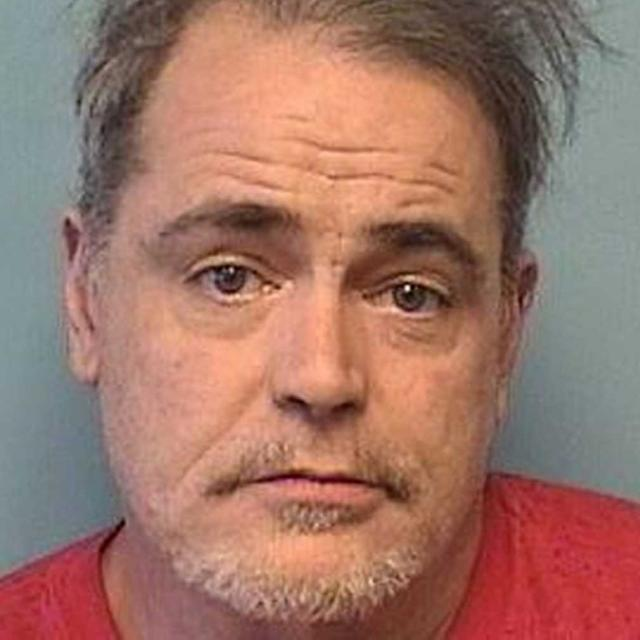Depress: (100, 17, 506, 622)
